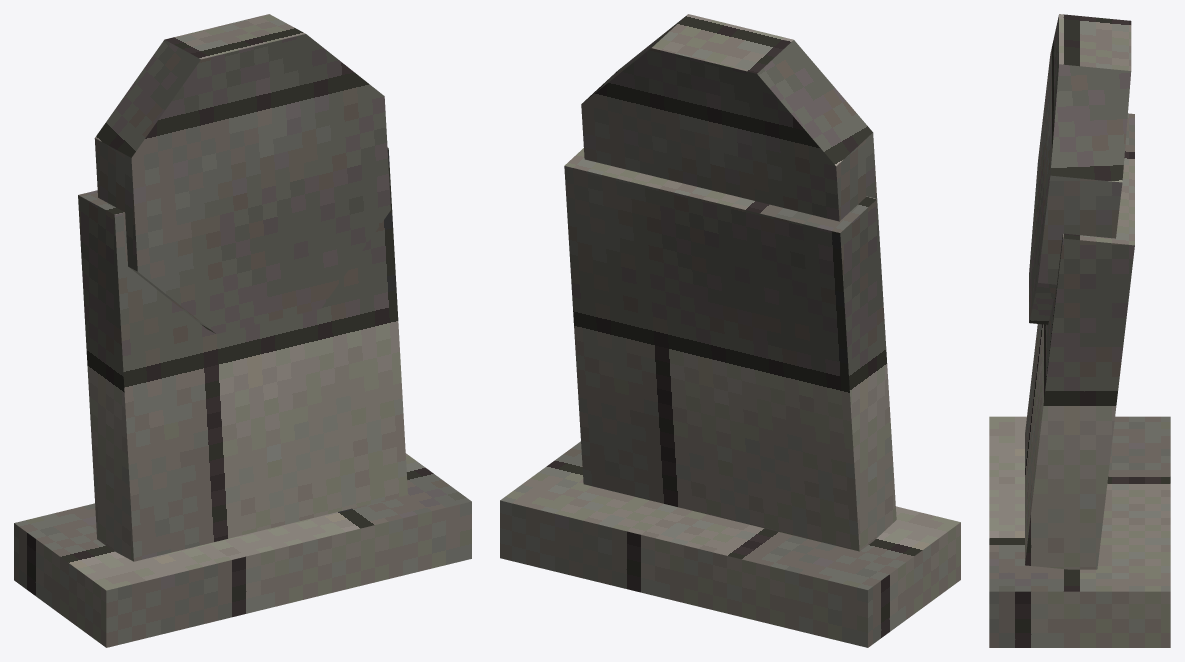
Rendered from lapida.obj.
3 views of the same model, side by side, from view 1: azimuth 30°, elevation 25°; view 2: azimuth 150°, elevation 25°; view 3: azimuth 270°, elevation 25° (orthographic). The views are drawn at different scales.
Parts seen in each view (by area): view 1: lapida; view 2: lapida; view 3: lapida.
Part boxes in pixels (x1,y1,x2,y2): lapida: (14, 14, 471, 647); lapida: (500, 14, 960, 647); lapida: (989, 14, 1170, 647).
Size of the model in its own units: 0.8 by 1.11 by 0.35.
1 material, 1 textured.
